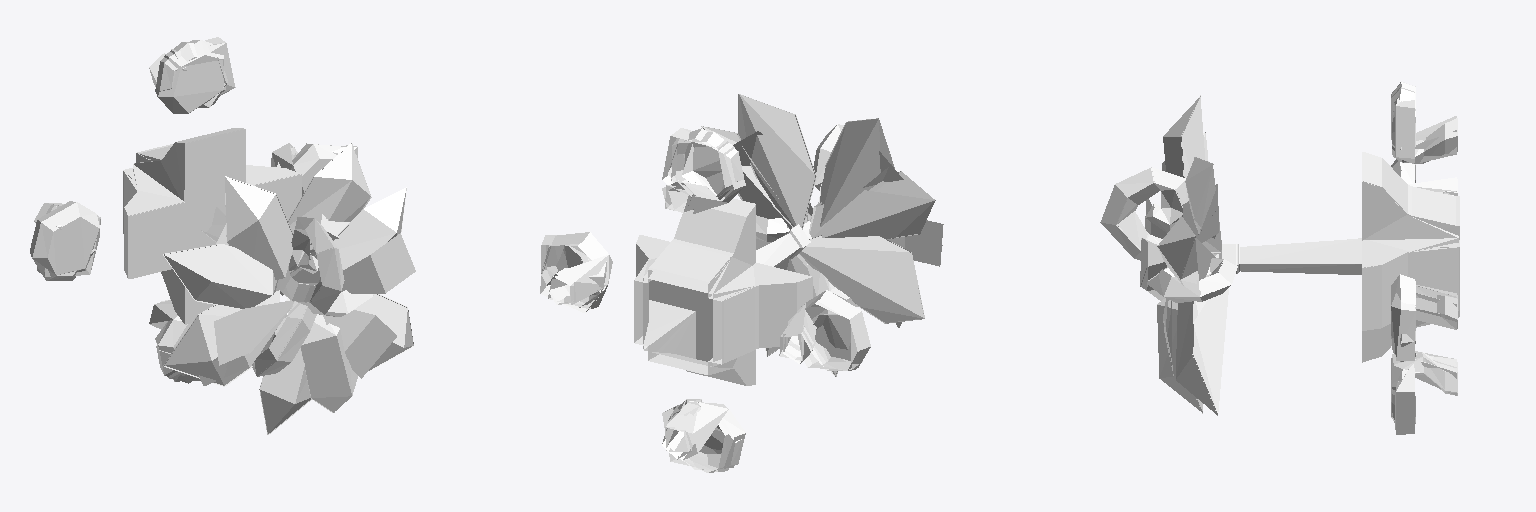
The model's file is umend.obj.
The picture shows the model from 3 angles: view 1: azimuth 30°, elevation 25°; view 2: azimuth 150°, elevation 25°; view 3: azimuth 270°, elevation 25°; orthographic projection.
Visible parts, largest first — view 1: Object08, Cylinder10, Editable Mesh, Cylinder01, Cylinder11; view 2: Cylinder01, Object08, Cylinder10, Object250, Cylinder11, Editable Mesh; view 3: Cylinder10, Cylinder11, Object08, Cylinder01, Object250, Editable Mesh.
Part boxes in pixels (x1,y1,x2,y2): Object08: (163, 143, 413, 434); Cylinder10: (30, 40, 373, 380); Editable Mesh: (199, 214, 415, 385); Cylinder01: (46, 42, 345, 383); Cylinder11: (37, 37, 365, 381); Cylinder01: (541, 124, 858, 472); Object08: (701, 94, 934, 376); Cylinder10: (543, 124, 870, 469); Object250: (702, 97, 935, 374); Cylinder11: (540, 128, 862, 471); Editable Mesh: (733, 131, 943, 327); Cylinder10: (1100, 86, 1458, 422); Cylinder11: (1116, 81, 1458, 434); Object08: (1157, 95, 1220, 415); Cylinder01: (1116, 82, 1459, 423); Object250: (1193, 133, 1228, 412); Editable Mesh: (1140, 184, 1218, 375).
Size of the model in its own units: 2.82 by 2.81 by 2.68.